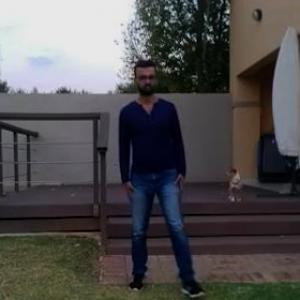follow: (119, 63, 173, 283)
